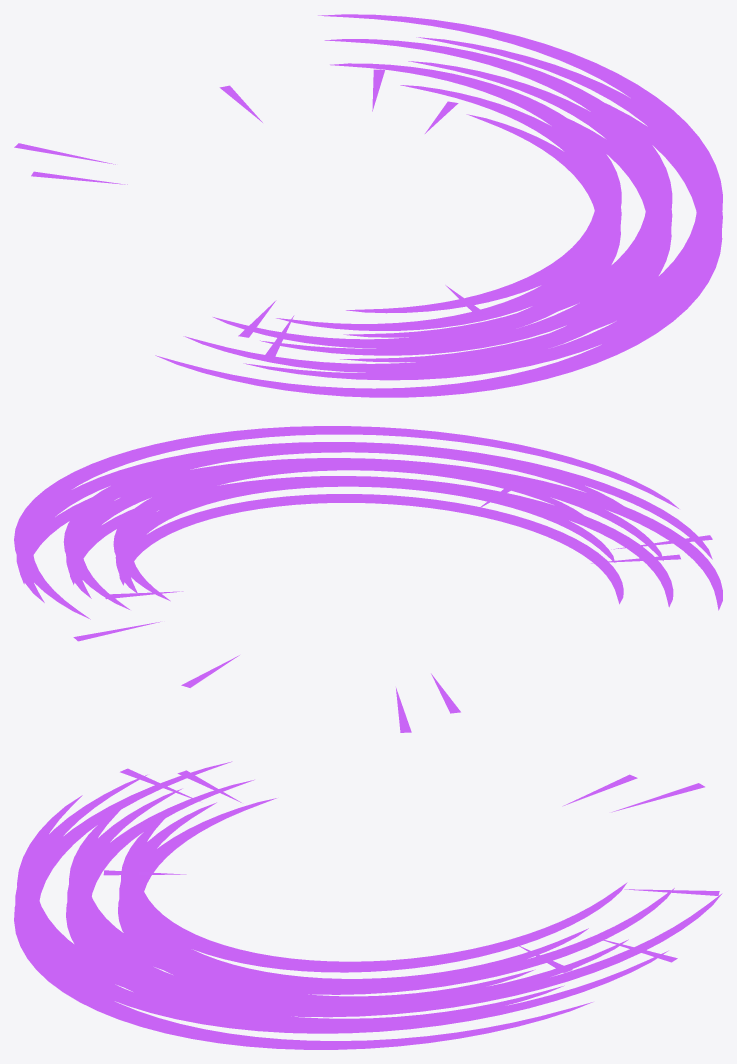
The model's file is Claw_TripleRake.glb.
3 renders of one model, top to bottom at view 1: azimuth 30°, elevation 25°; view 2: azimuth 150°, elevation 25°; view 3: azimuth 270°, elevation 25°, orthographic. The views are drawn at different scales.
Parts seen in each view (by area): view 1: Claw_TripleRake_Claw2_2, Claw_TripleRake_Claw2_1, Claw_TripleRake_Claw1_2, Claw_TripleRake_Claw2_0, Claw_TripleRake_Claw0_2, Claw_TripleRake_Claw1_1, Claw_TripleRake_Claw1_0, Claw_TripleRake_Claw0_1, Claw_TripleRake_Claw0_0; view 2: Claw_TripleRake_Claw2_2, Claw_TripleRake_Claw2_1, Claw_TripleRake_Claw2_0, Claw_TripleRake_Claw0_0, Claw_TripleRake_Claw1_0, Claw_TripleRake_Claw1_2, Claw_TripleRake_Claw0_2, Claw_TripleRake_Claw1_1, Claw_TripleRake_Claw0_1; view 3: Claw_TripleRake_Claw2_2, Claw_TripleRake_Claw2_1, Claw_TripleRake_Claw1_2, Claw_TripleRake_Claw0_2, Claw_TripleRake_Claw2_0, Claw_TripleRake_Claw1_1, Claw_TripleRake_Claw1_0, Claw_TripleRake_Claw0_1, Claw_TripleRake_Claw0_0.
Part boxes in pixels (x1=…): Claw_TripleRake_Claw2_2: x1=318, y1=14, x2=722, y2=362; Claw_TripleRake_Claw2_1: x1=324, y1=39, x2=672, y2=337; Claw_TripleRake_Claw1_2: x1=243, y1=37, x2=722, y2=380; Claw_TripleRake_Claw2_0: x1=330, y1=63, x2=621, y2=313; Claw_TripleRake_Claw0_2: x1=155, y1=103, x2=722, y2=397; Claw_TripleRake_Claw1_1: x1=260, y1=61, x2=672, y2=355; Claw_TripleRake_Claw1_0: x1=276, y1=85, x2=621, y2=330; Claw_TripleRake_Claw0_1: x1=183, y1=118, x2=671, y2=372; Claw_TripleRake_Claw0_0: x1=213, y1=114, x2=620, y2=348; Claw_TripleRake_Claw2_2: x1=14, y1=426, x2=678, y2=619; Claw_TripleRake_Claw2_1: x1=63, y1=444, x2=635, y2=609; Claw_TripleRake_Claw2_0: x1=113, y1=462, x2=591, y2=601; Claw_TripleRake_Claw0_0: x1=119, y1=494, x2=623, y2=604; Claw_TripleRake_Claw1_0: x1=115, y1=477, x2=614, y2=593; Claw_TripleRake_Claw1_2: x1=16, y1=442, x2=712, y2=602; Claw_TripleRake_Claw0_2: x1=20, y1=458, x2=722, y2=610; Claw_TripleRake_Claw1_1: x1=66, y1=459, x2=663, y2=598; Claw_TripleRake_Claw0_1: x1=69, y1=476, x2=673, y2=607; Claw_TripleRake_Claw2_2: x1=17, y1=795, x2=722, y2=1017; Claw_TripleRake_Claw2_1: x1=69, y1=803, x2=674, y2=994; Claw_TripleRake_Claw1_2: x1=15, y1=774, x2=668, y2=1033; Claw_TripleRake_Claw0_2: x1=14, y1=761, x2=592, y2=1049; Claw_TripleRake_Claw2_0: x1=121, y1=812, x2=627, y2=972; Claw_TripleRake_Claw1_1: x1=67, y1=788, x2=628, y2=1006; Claw_TripleRake_Claw1_0: x1=119, y1=802, x2=588, y2=983; Claw_TripleRake_Claw0_1: x1=66, y1=779, x2=564, y2=1023; Claw_TripleRake_Claw0_0: x1=118, y1=798, x2=535, y2=1001.
Size of the model in its own units: 0.0019 by 0.000253 by 0.0019.
